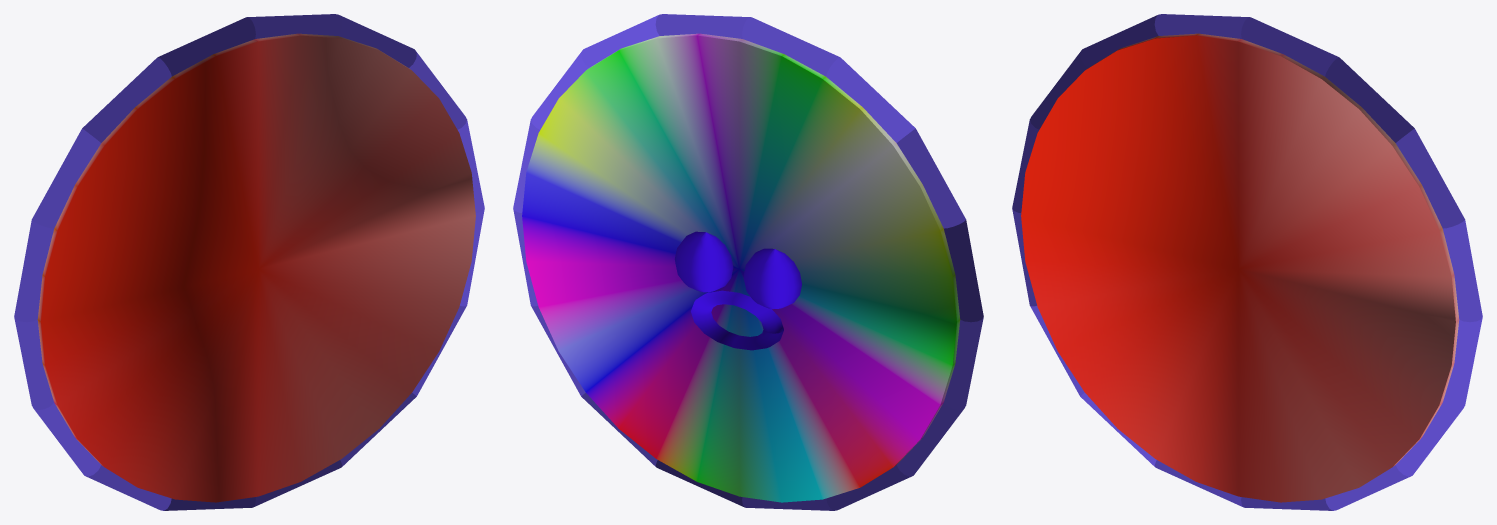
The model's file is wheel.glb.
The picture shows the model from 3 angles, left to right: view 1: azimuth 30°, elevation 25°; view 2: azimuth 150°, elevation 25°; view 3: azimuth 330°, elevation 25°; orthographic projection.
Parts seen in each view (by area): view 1: WheelOfFortune; view 2: WheelOfFortune; view 3: WheelOfFortune.
Part boxes in pixels (box(x1,y1,x2,y2)): WheelOfFortune: box(14, 14, 484, 510); WheelOfFortune: box(513, 14, 983, 510); WheelOfFortune: box(1012, 14, 1482, 510).
Size of the model in its own units: 1.32 by 1.32 by 0.165.
